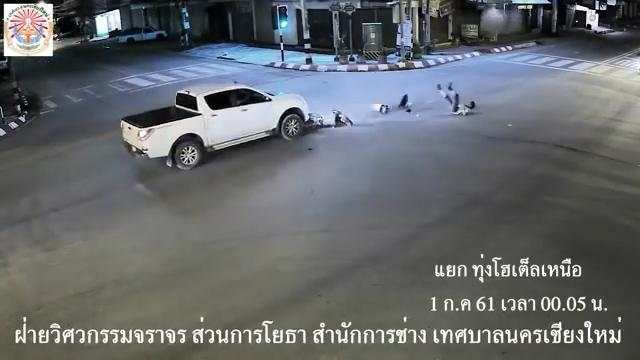accident: (434, 80, 477, 118)
